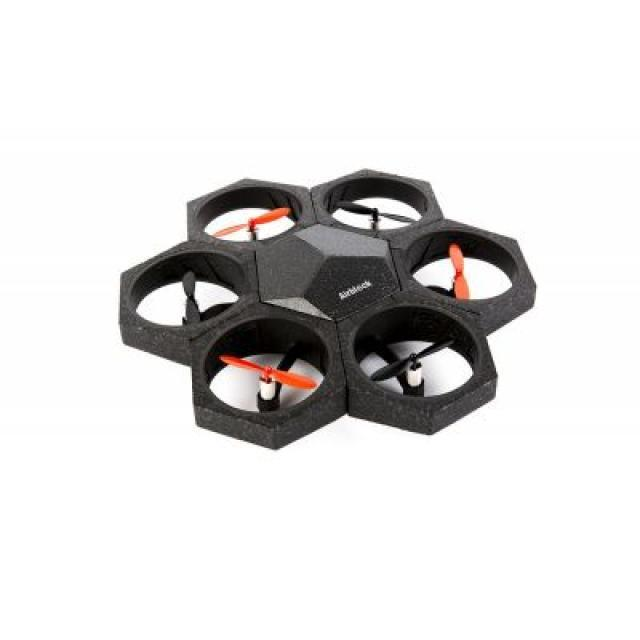drone: (110, 178, 560, 436)
